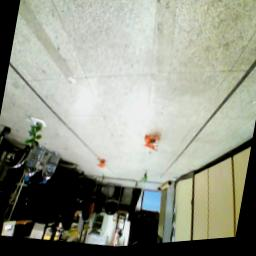herb: (25, 119, 46, 152), (142, 173, 151, 185)
wild: (141, 136, 162, 157), (97, 160, 108, 172)
